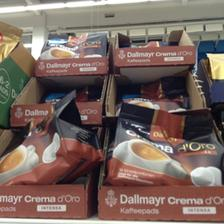Kaffee: (104, 100, 222, 188), (1, 89, 104, 185), (40, 28, 105, 56)
